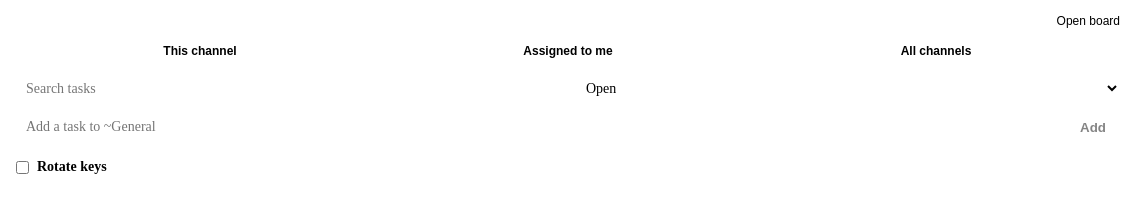
TasksPanel › shows channel names outside the channel scope
The width and height of the screenshot is (1137, 209).
expect the button "Rotate keys" is shown: met, box [37,159,1120,175]
expect the text "~Ops" is not shown: met
What coordinates should you click on to do the following:
click the tab "All channels"
I would click on:
 (936, 51)
Its box is [752,38,1120,64].
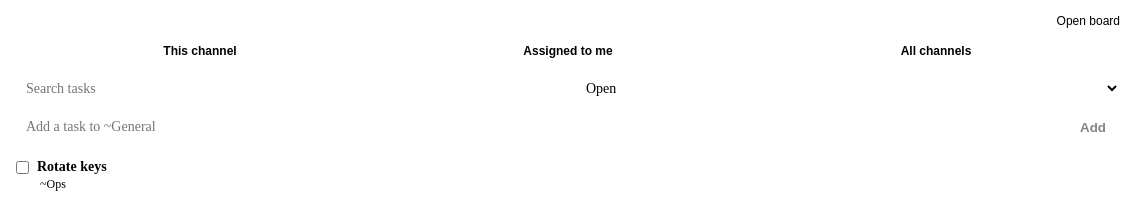
expect the text "~Ops" is shown: met, box [40,177,66,192]
